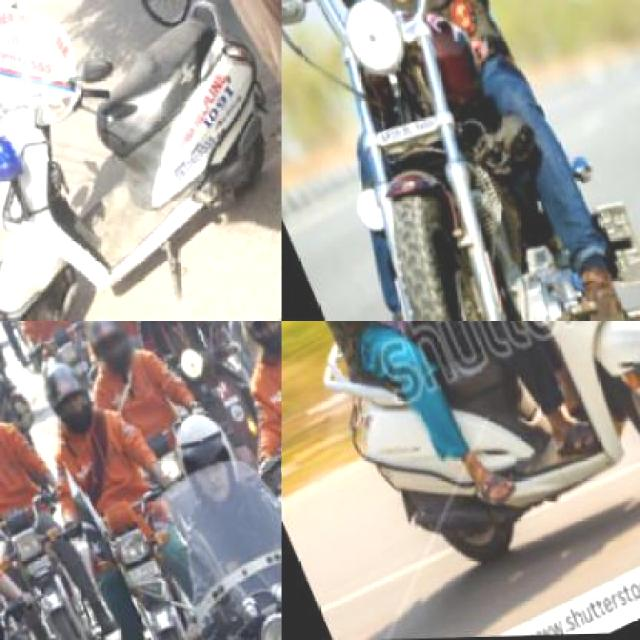With Helmet: (158, 400, 262, 525), (28, 350, 110, 445), (76, 320, 150, 386), (215, 320, 280, 377)
